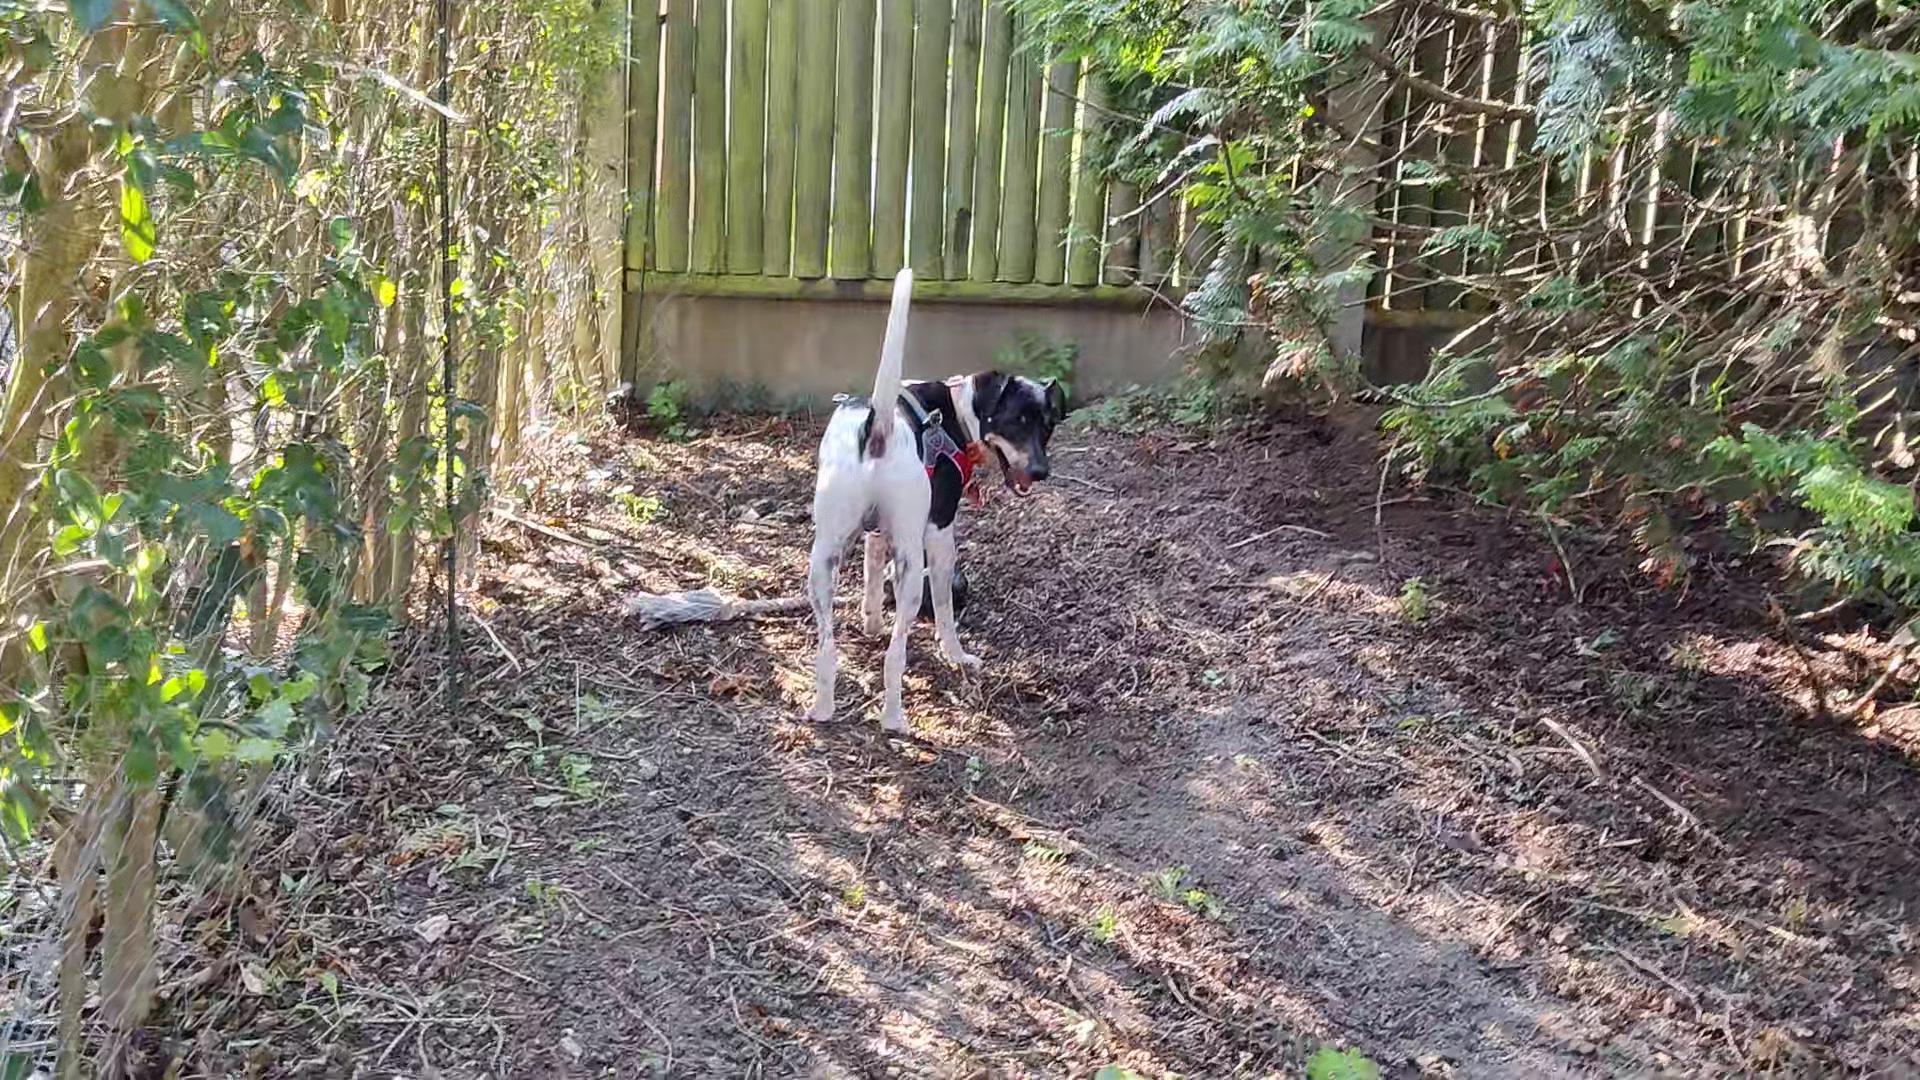Dog: (789, 255, 1077, 741)
